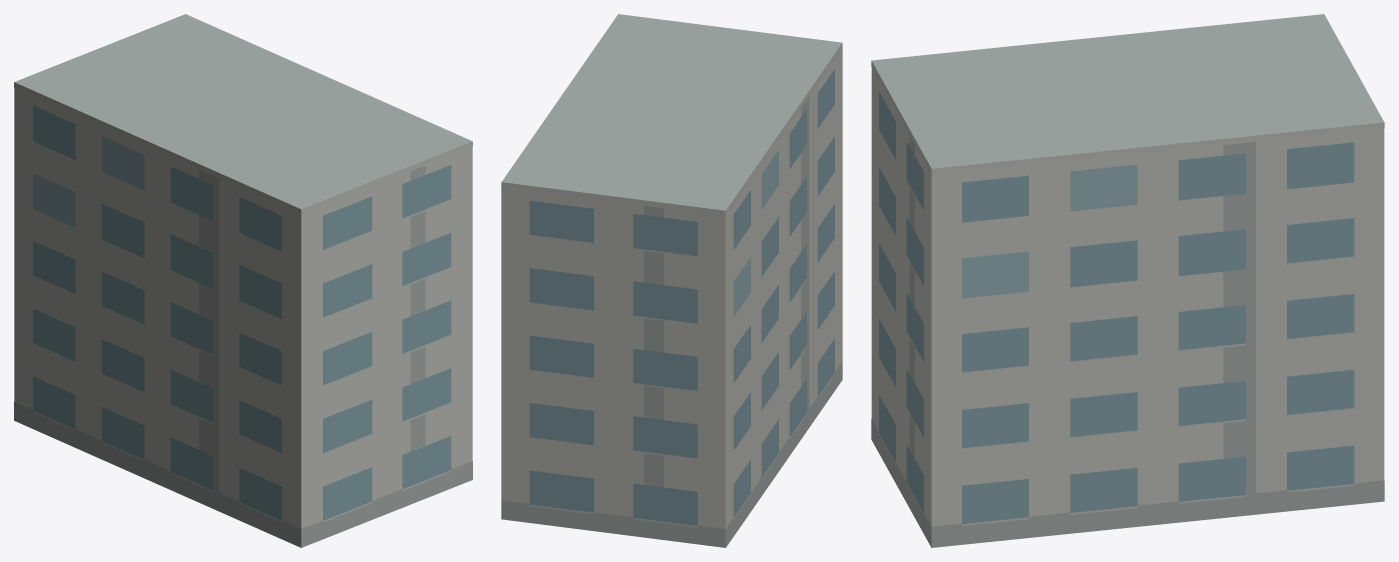
Rendered from survey-upis-32680560.glb.
3 views of the same model, side by side, from view 1: azimuth 30°, elevation 25°; view 2: azimuth 150°, elevation 25°; view 3: azimuth 270°, elevation 25° (orthographic). The views are drawn at different scales.
Visible parts, largest first — view 1: survey-upis-32680560.tmp; view 2: survey-upis-32680560.tmp; view 3: survey-upis-32680560.tmp.
Part boxes in pixels (left/top/right/bottom): survey-upis-32680560.tmp: left=14, top=14, right=472, bottom=547; survey-upis-32680560.tmp: left=501, top=14, right=842, bottom=547; survey-upis-32680560.tmp: left=871, top=14, right=1384, bottom=547.
Bounding box in the file's own units: 13.02 × 14.85 × 18.22.
